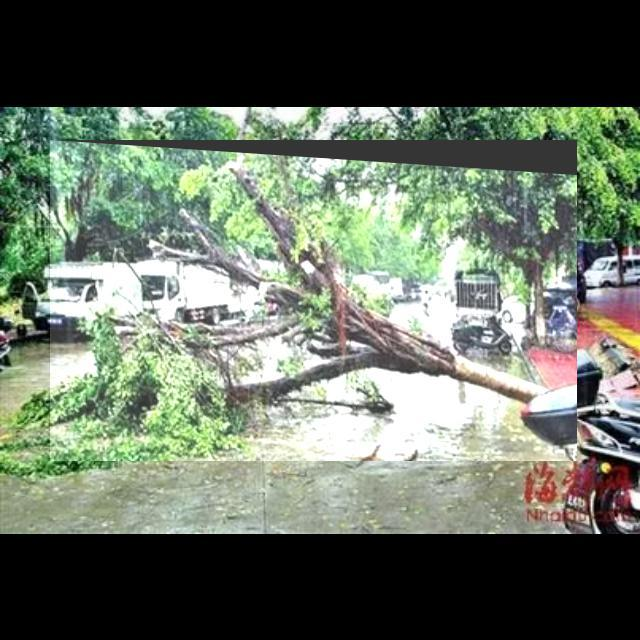fallen_tree: (50, 140, 578, 462)
